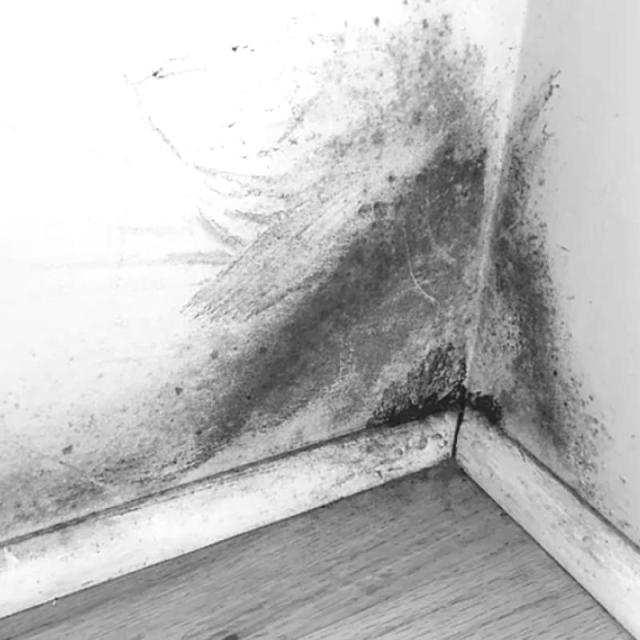stain marks: (0, 7, 640, 572)
